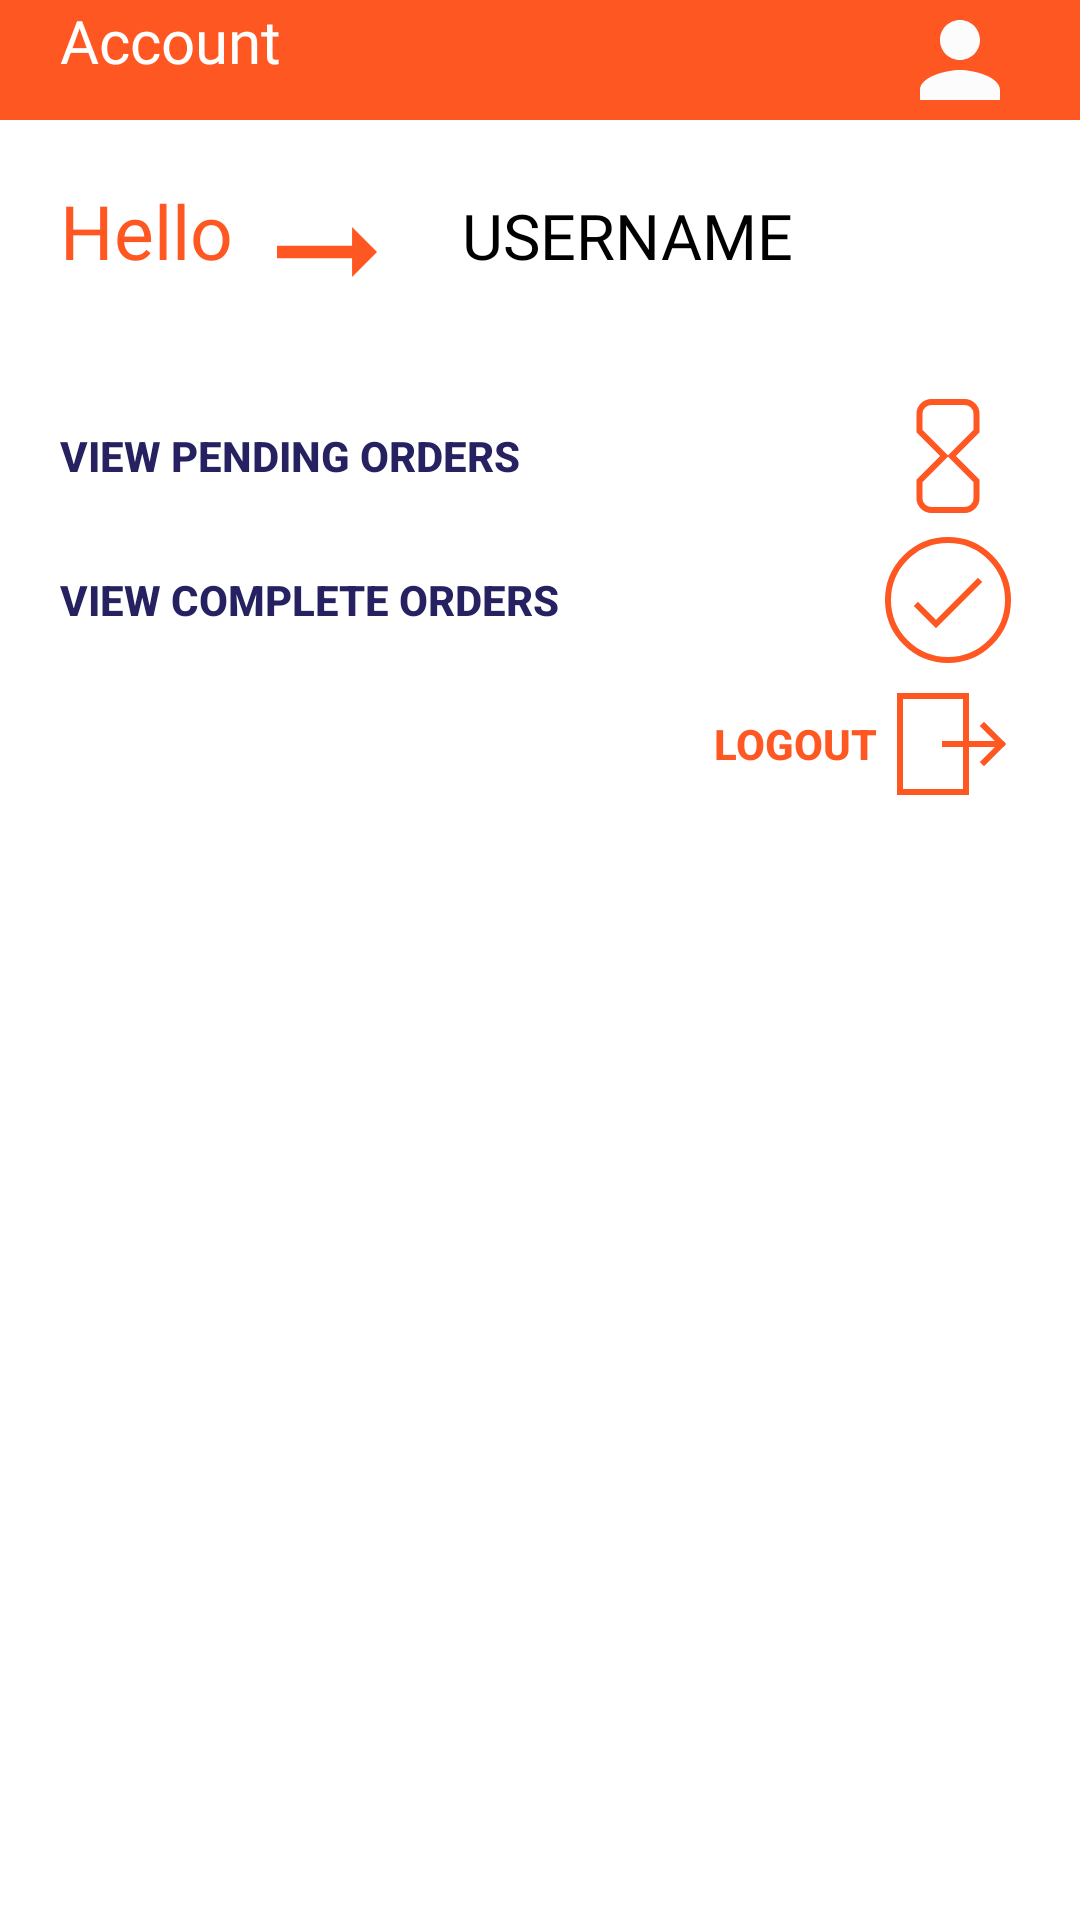

Icons on this 1080x1920 Android screen, each with its box as (x1, y1, x2, y2):
arrow right: (277, 227, 377, 277)
